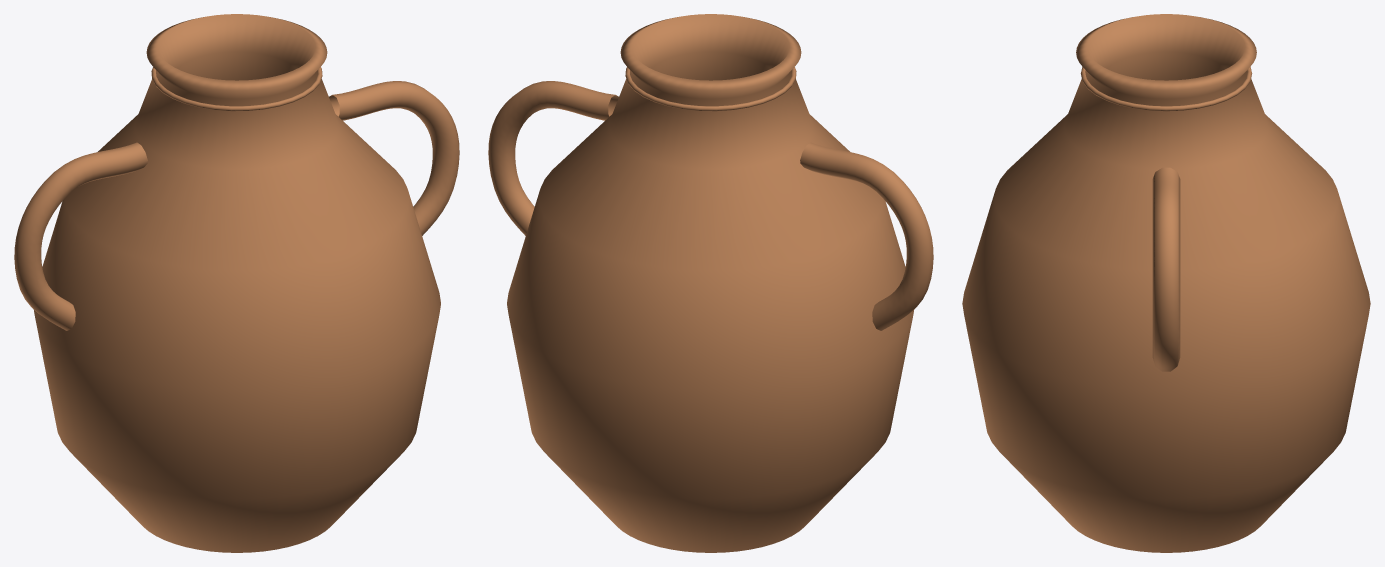
File: vaso.glb
3 views of the same model, side by side, from view 1: azimuth 30°, elevation 25°; view 2: azimuth 150°, elevation 25°; view 3: azimuth 270°, elevation 25° (orthographic).
Visible parts, largest first — view 1: Vaso de cerâmica, Alça, Alça.001, Incisão cerâmica.002; view 2: Vaso de cerâmica, Alça, Alça.001, Incisão cerâmica.002; view 3: Vaso de cerâmica, Alça.001, Incisão cerâmica.002.
Part boxes in pixels (x1,y1,x2,y2): Vaso de cerâmica: (33,14,440,552); Alça: (14,142,147,330); Alça.001: (329,81,459,235); Incisão cerâmica.002: (151,67,322,111); Vaso de cerâmica: (507,14,914,552); Alça: (800,142,933,330); Alça.001: (488,81,618,235); Incisão cerâmica.002: (625,67,796,111); Vaso de cerâmica: (962,14,1370,552); Alça.001: (1152,167,1180,371); Incisão cerâmica.002: (1080,67,1252,111).
Size of the model in its own units: 1.75 by 1.82 by 1.4.
